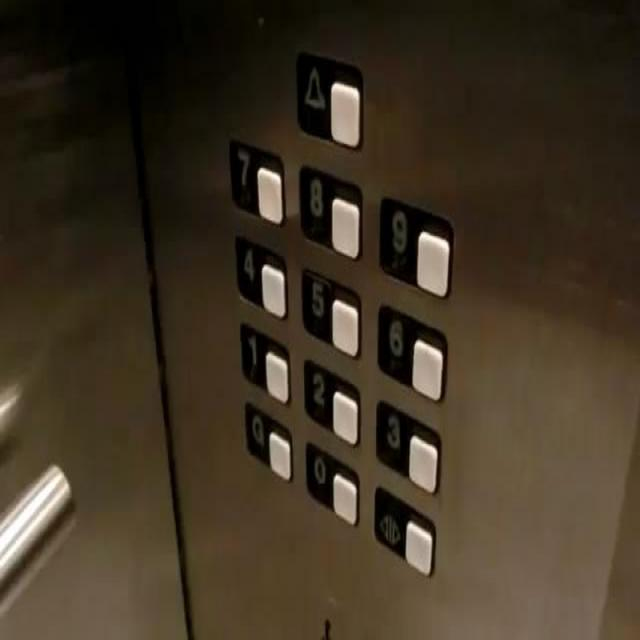0: (302, 436, 361, 531)
1: (236, 320, 293, 408)
2: (299, 353, 361, 451)
3: (372, 396, 441, 499)
4: (232, 226, 290, 322)
5: (298, 262, 364, 362)
6: (374, 297, 448, 408)
7: (225, 130, 288, 230)
8: (294, 156, 366, 265)
9: (374, 186, 457, 302)
G: (242, 396, 296, 485)
alarm: (291, 42, 365, 150)
open: (371, 477, 436, 580)
